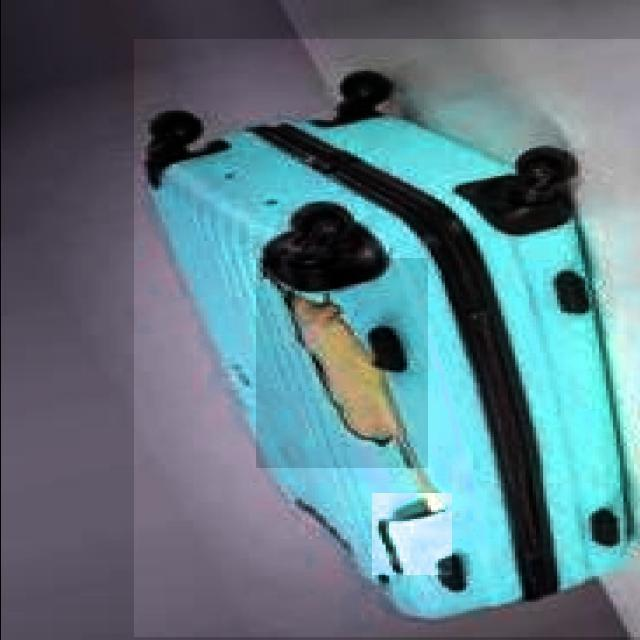Suitcase: (140, 62, 638, 625)
